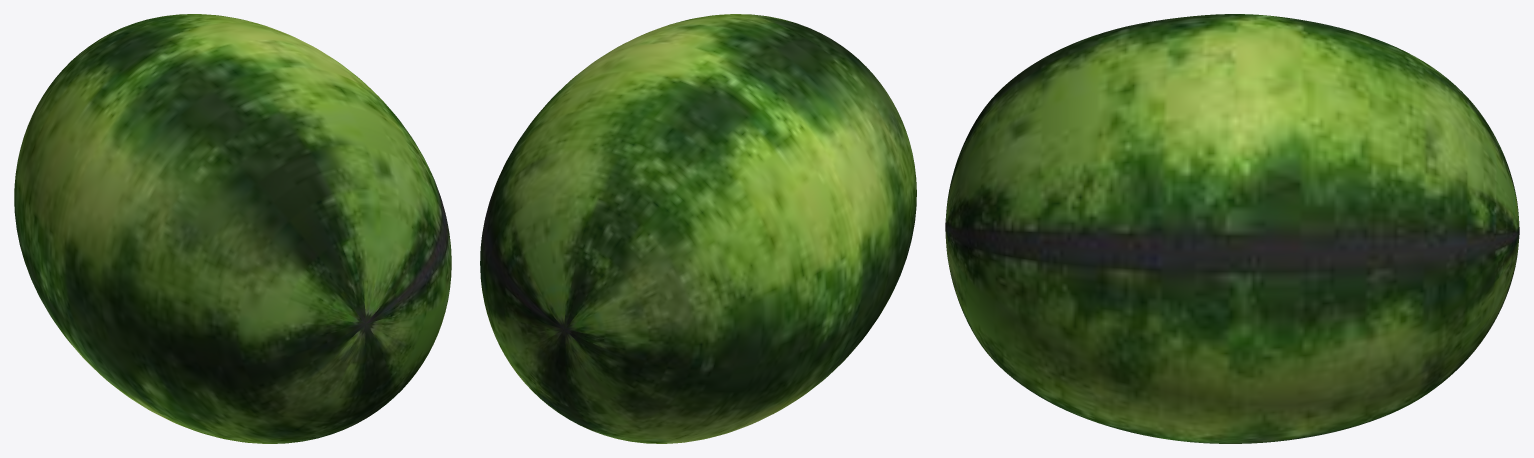
File: Watermelon.fbx
The picture shows the model from 3 angles, left to right: view 1: azimuth 30°, elevation 25°; view 2: azimuth 150°, elevation 25°; view 3: azimuth 270°, elevation 25°; orthographic projection. The views are drawn at different scales.
Visible parts, largest first — view 1: Watermelon1; view 2: Watermelon1; view 3: Watermelon1.
Part boxes in pixels (<box>): Watermelon1: <box>14,14,451,443</box>; Watermelon1: <box>480,14,916,443</box>; Watermelon1: <box>945,14,1519,443</box>.
Bounding box in the file's own units: 3.18 × 3.35 × 4.43.
1 material, 1 textured.
